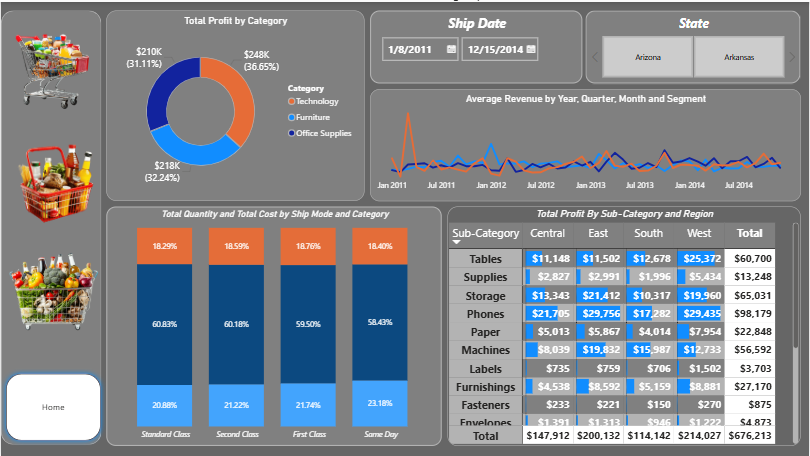

This screenshot's page, from the dashboard's own definition file:
{"tool":"powerbi","page":{"name":"Navigate","canvas":[1280,720],"ordinal":1},"visuals":[{"type":"shape","box":[0,13.6,159,688],"z":0},{"type":"pivotTable","title":"Total Profit By Sub-Category and Region","fields":{"Rows":["Orders.Sub-Category"],"Values":["Orders.Total Profit"],"Columns":["Orders.Region"]},"box":[708.1,323.1,559.1,379.2],"z":4000},{"type":"pageNavigator","box":[0,580.2,166.9,122.3],"z":5000},{"type":"donutChart","fields":{"Category":["Orders.Category"],"Y":["Orders.Total Profit"]},"box":[166.4,13.5,409,301.8],"z":6000},{"type":"lineChart","fields":{"Y":["Orders.Average Revenue"],"Category":["Orders.Order Date.Variation.Date Hierarchy.Year","Orders.Order Date.Variation.Date Hierarchy.Quarter","Orders.Order Date.Variation.Date Hierarchy.Month"],"Series":["Orders.Segment"]},"box":[584.3,137.4,682.9,178],"z":7001},{"type":"slicer","title":"Ship Date","fields":{"Values":["Orders.Ship Date"]},"box":[584.6,13.4,336,116],"z":7004},{"type":"hundredPercentStackedColumnChart","fields":{"Y":["Orders.Total Quantity"],"Category":["Orders.Ship Mode"],"Series":["Orders.Category"]},"box":[166.4,323.1,531,379.2],"z":7005},{"type":"slicer","title":"State","fields":{"Values":["Orders.State"]},"box":[926.7,13.5,340.5,116.1],"z":7006},{"type":"image","box":[5.7,13.4,153.3,191.7],"z":7007},{"type":"image","box":[5.7,216.6,161,143.7],"z":7008},{"type":"image","box":[0,360.3,166.7,178.2],"z":7009}]}

Visuals, with their boxes in screenshot pixels (x1, y1, x2, y2), scaled from the page's 1280x720 canvas onto the 810x456 screenshot:
shape: locate(0, 9, 101, 444)
"Total Profit By Sub-Category and Region" pivotTable: locate(448, 205, 802, 445)
pageNavigator: locate(0, 367, 106, 445)
donutChart - Orders.Category x Orders.Total Profit: locate(105, 9, 364, 200)
lineChart - Orders.Average Revenue x Orders.Order Date.Variation.Date Hierarchy.Year: locate(370, 87, 802, 200)
"Ship Date" slicer: locate(370, 8, 583, 82)
hundredPercentStackedColumnChart - Orders.Total Quantity x Orders.Ship Mode: locate(105, 205, 441, 445)
"State" slicer: locate(586, 9, 802, 82)
image: locate(4, 8, 101, 130)
image: locate(4, 137, 105, 228)
image: locate(0, 228, 105, 341)
